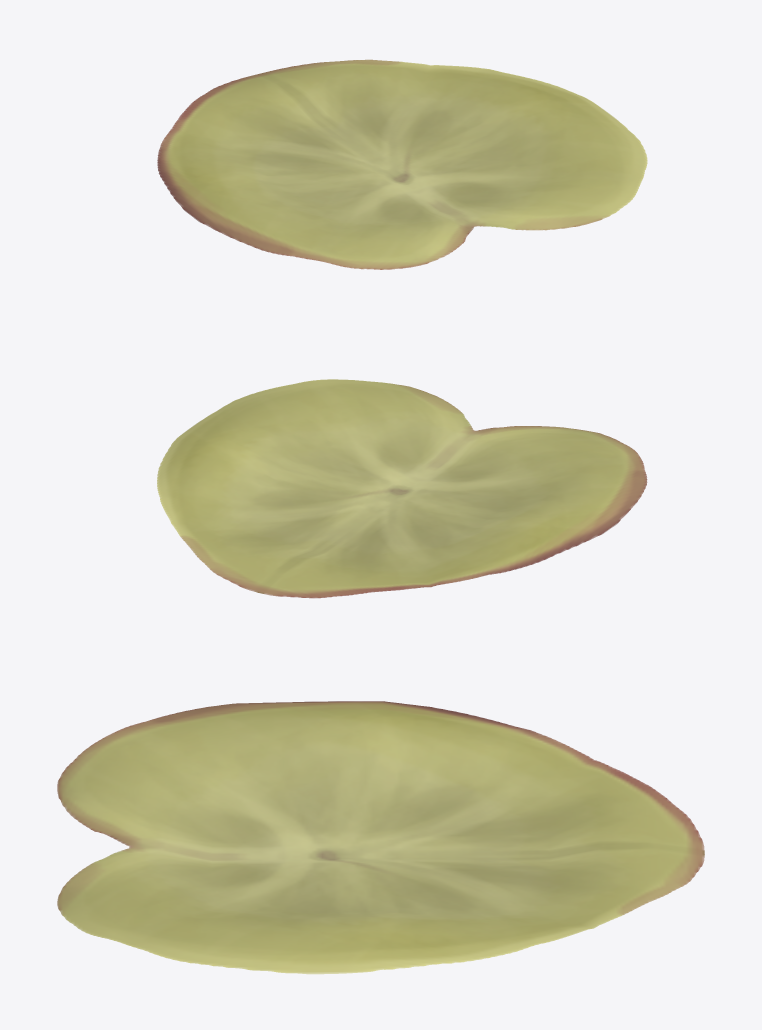
File: LillyPad2.fbx
3 renders of one model, top to bottom at view 1: azimuth 30°, elevation 25°; view 2: azimuth 150°, elevation 25°; view 3: azimuth 270°, elevation 25°, orthographic. The views are drawn at different scales.
Visible parts, largest first — view 1: LillyPad2; view 2: LillyPad2; view 3: LillyPad2.
Boxes of the visible parts, box(x1,y1,x2,y2) form: LillyPad2: box(157, 59, 647, 269); LillyPad2: box(157, 379, 647, 598); LillyPad2: box(57, 701, 704, 974).
Size of the model in its own units: 12.3 by 0.7886 by 12.76.
